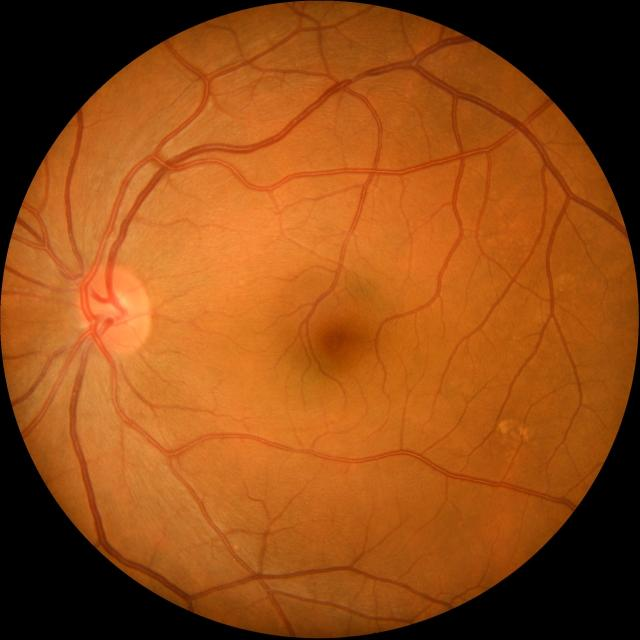OC: (102, 293, 126, 320)
OD: (78, 264, 149, 356)
